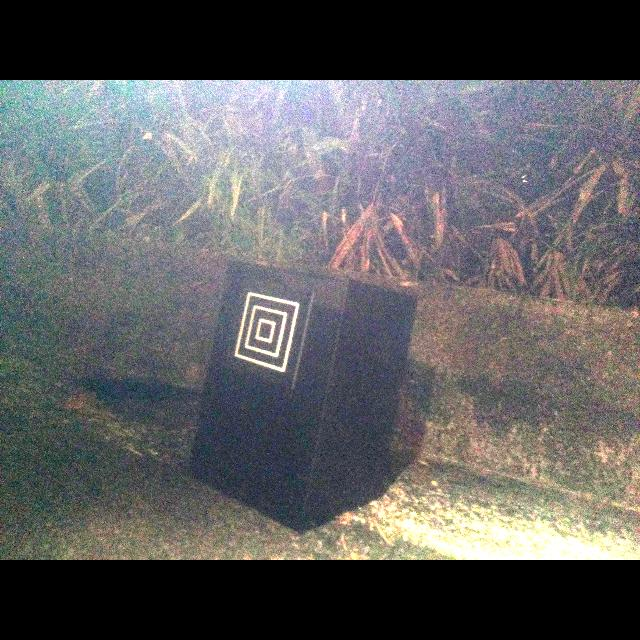BULLSEYE: (235, 293, 299, 372)
